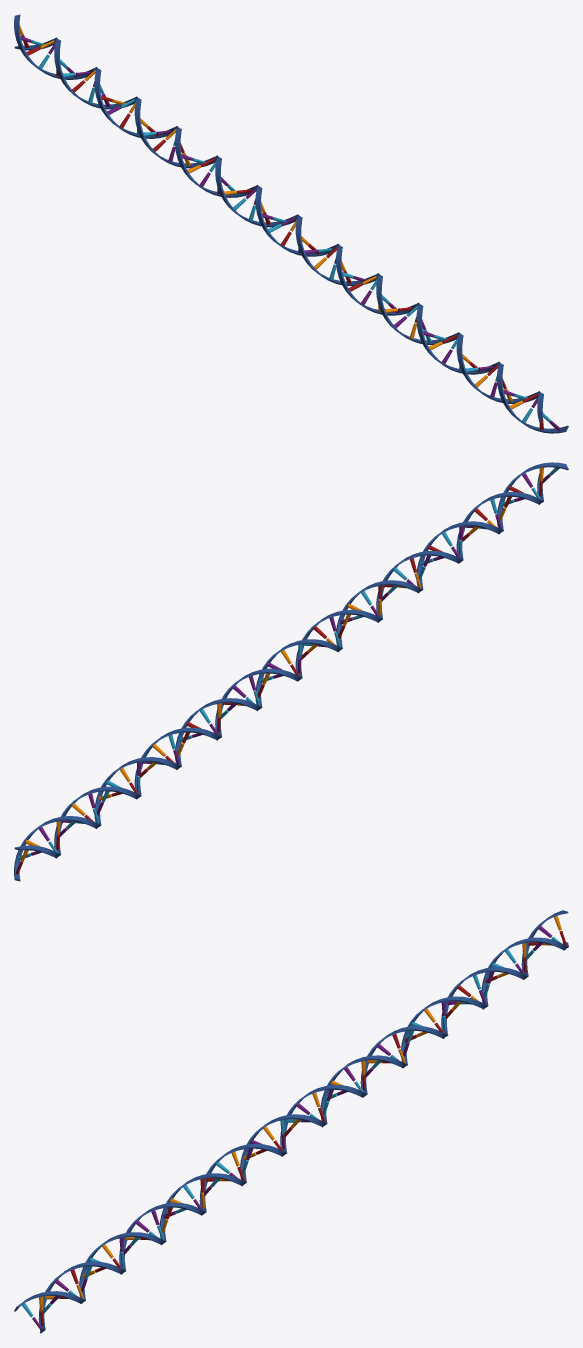
The model's file is DNA_f1.fbx.
3 views of the same model, one above another, from view 1: azimuth 30°, elevation 25°; view 2: azimuth 150°, elevation 25°; view 3: azimuth 330°, elevation 25° (orthographic).
Parts seen in each view (by area): view 1: DNA5; view 2: DNA5; view 3: DNA5.
Part boxes in pixels (box(x1,y1,x2,y2)): DNA5: box(14, 14, 568, 433); DNA5: box(14, 462, 568, 881); DNA5: box(14, 910, 568, 1333).
Bounding box in the file's own units: 2.04 × 2.04 × 60.
